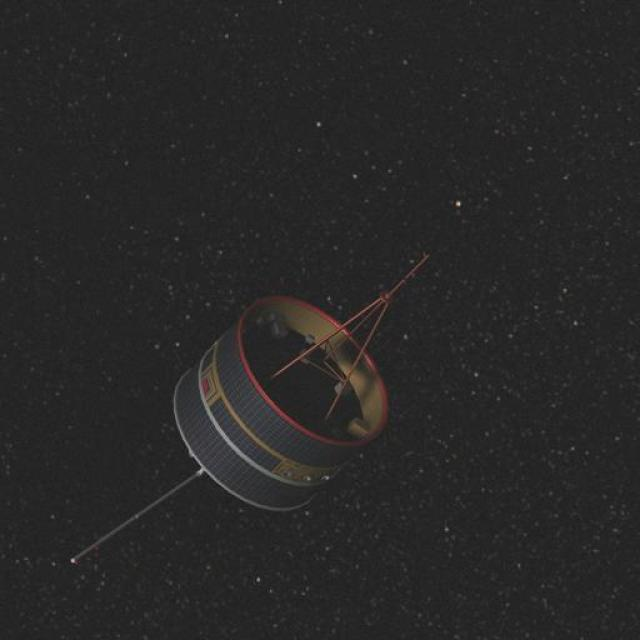double_start: (136, 271, 420, 543)
